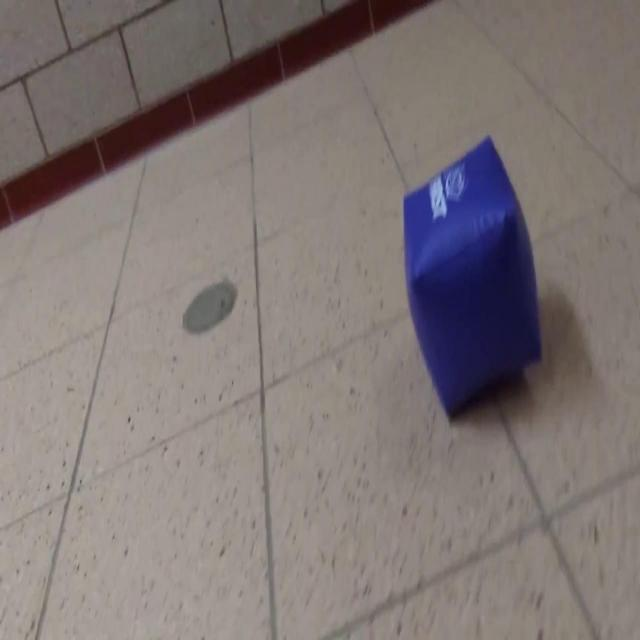frc_cube: (402, 139, 544, 417)
